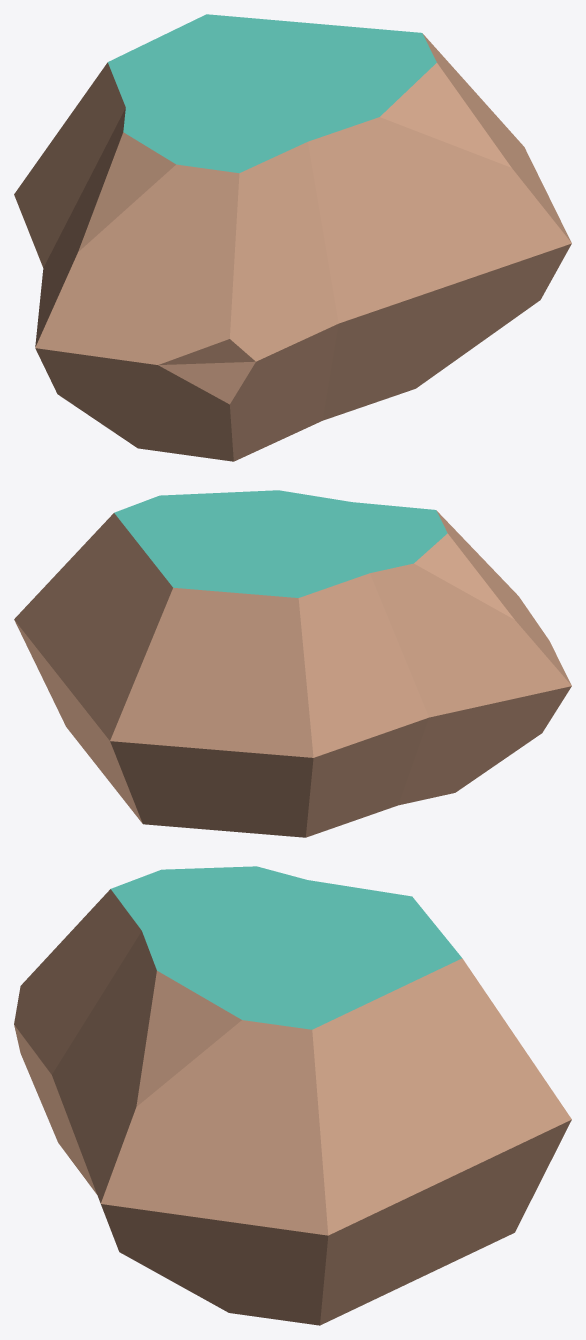
File: rock_largeF.glb
3 renders of one model, top to bottom at view 1: azimuth 30°, elevation 25°; view 2: azimuth 150°, elevation 25°; view 3: azimuth 270°, elevation 25°, orthographic. The views are drawn at different scales.
Visible parts, largest first — view 1: rock_largeF; view 2: rock_largeF; view 3: rock_largeF.
Boxes of the visible parts, x1,y1,x2,y2 form: rock_largeF: [14, 14, 571, 461]; rock_largeF: [14, 490, 571, 837]; rock_largeF: [14, 866, 571, 1325].
Bounding box in the file's own units: 1.1 × 0.479 × 0.899.
